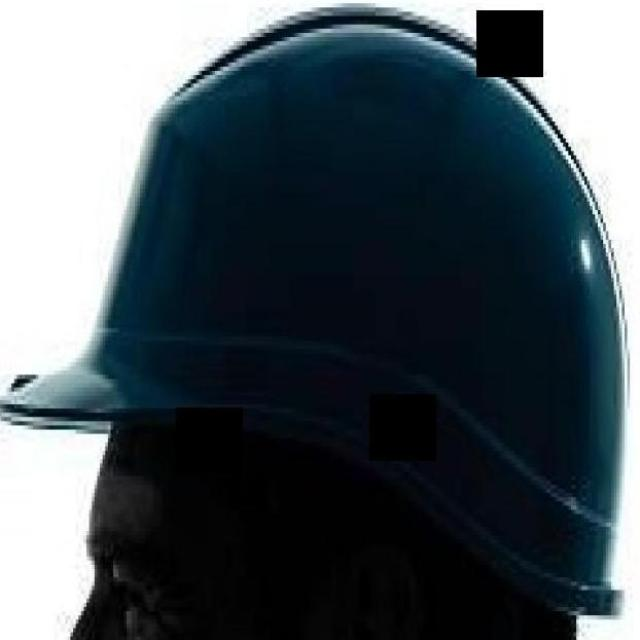blue helmet: (28, 10, 633, 615)
